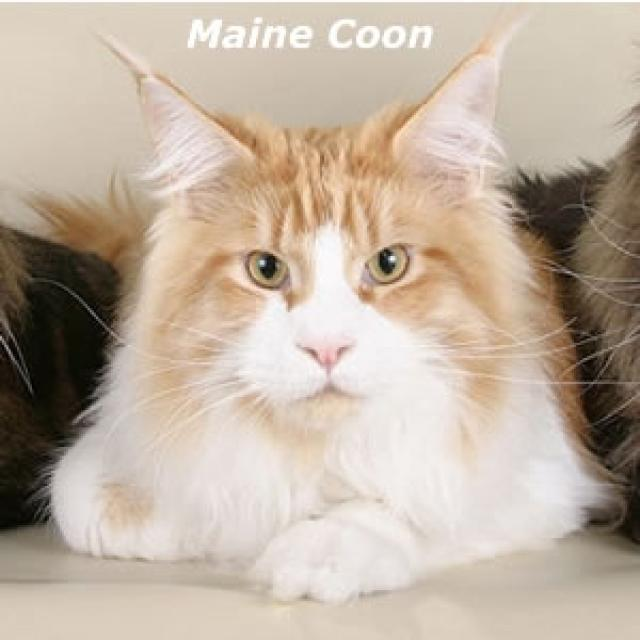Maine_Coon: (126, 25, 527, 442)
